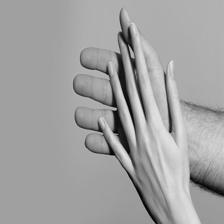Ladder: (70, 15, 175, 207)
